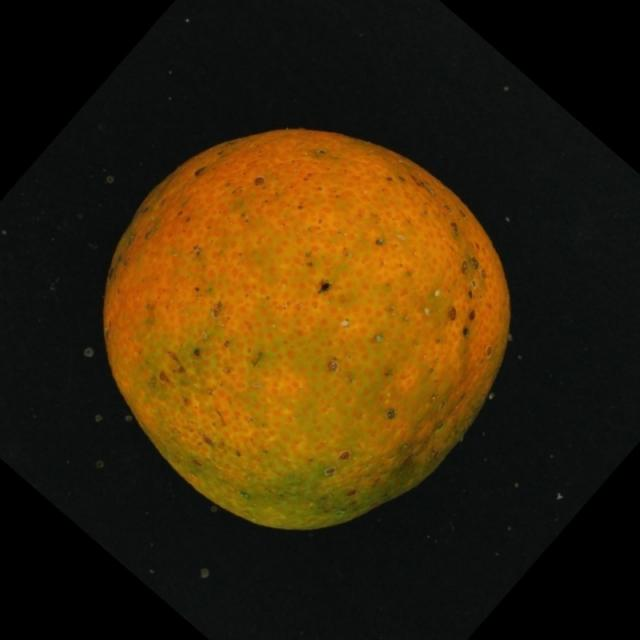grenning: (84, 112, 531, 561)
